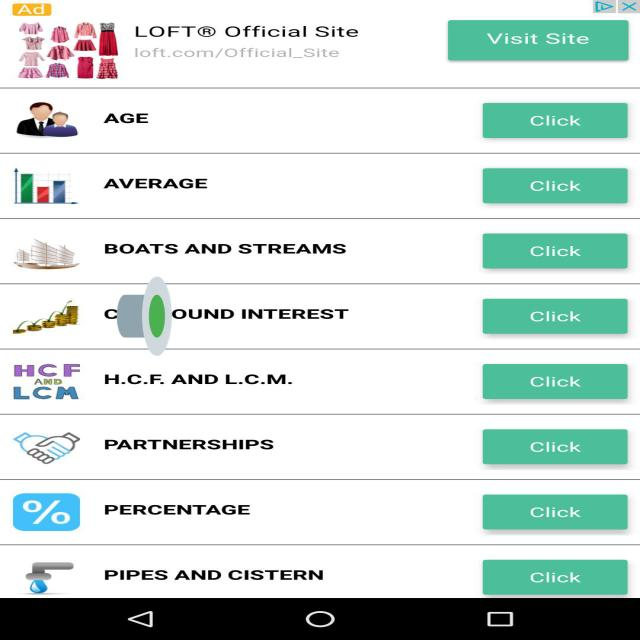social proof: (117, 242, 172, 390)
